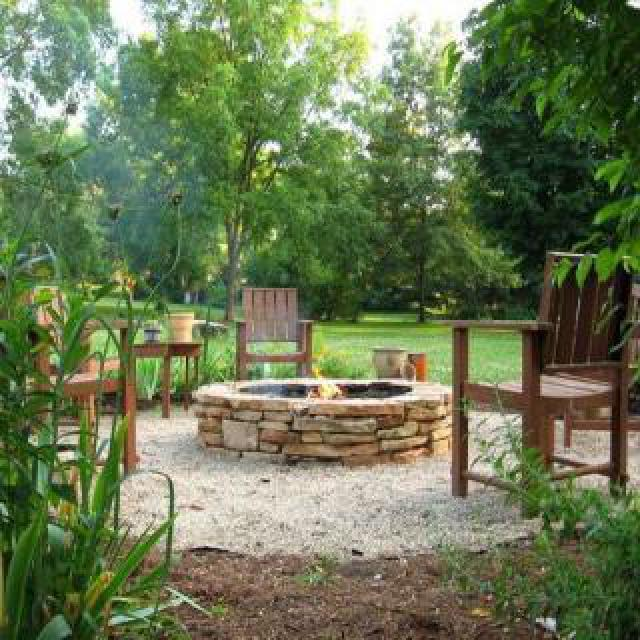zfire: (304, 352, 340, 406)
